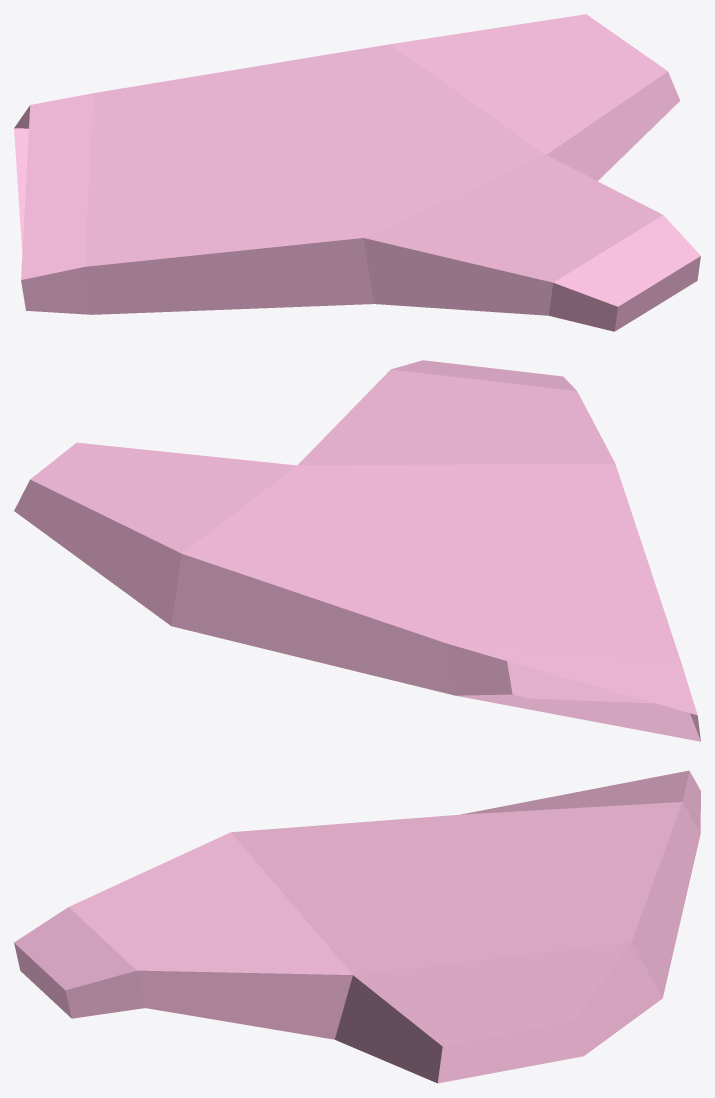
File: Petal.glb
The picture shows the model from 3 angles, top to bottom: view 1: azimuth 30°, elevation 25°; view 2: azimuth 150°, elevation 25°; view 3: azimuth 270°, elevation 25°; orthographic projection. The views are drawn at different scales.
Parts seen in each view (by area): view 1: Petal; view 2: Petal; view 3: Petal.
Boxes of the visible parts, bbox=[...] form: Petal: bbox=[14, 14, 700, 331]; Petal: bbox=[14, 360, 700, 741]; Petal: bbox=[14, 770, 700, 1083].
Bounding box in the file's own units: 0.3943 × 0.0761 × 0.3562.
